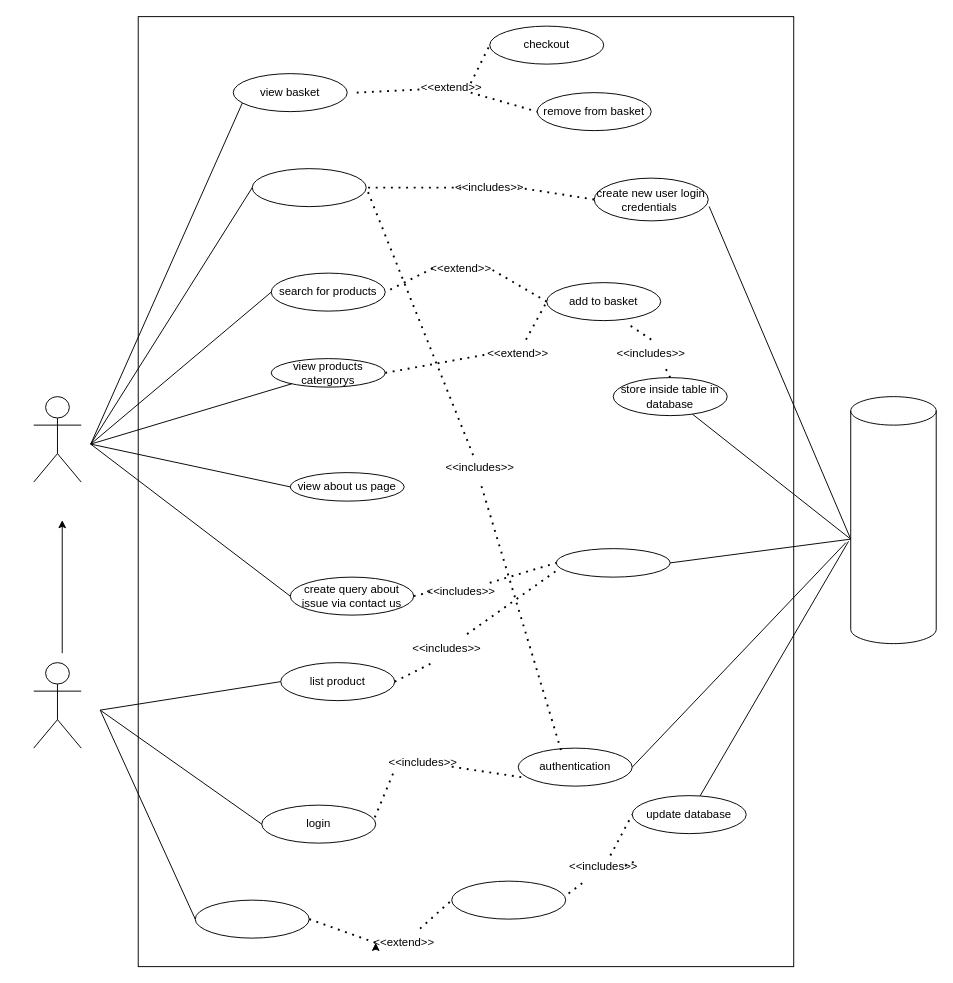
The diagram is 953 pixels wide and 983 high, and some of its shapes have lost their labels. Each missing label, with the centre of its shape:
"add to database" belongs at point (612, 562).
"edit profile" belongs at point (508, 899).
"register" belongs at point (308, 187).
"Registered User" belongs at point (57, 705).
"site database" belongs at point (893, 520).
"user" belongs at point (57, 439).
"View Profile" belongs at point (251, 918).
